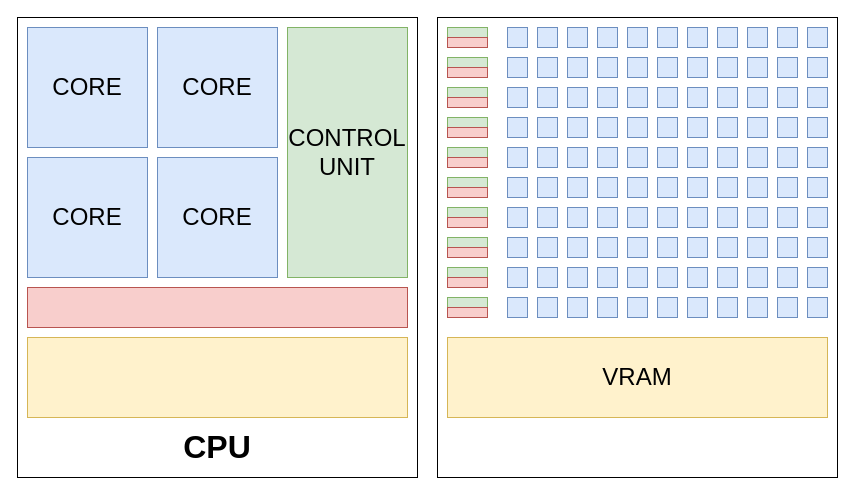
The diagram is 855 pixels wide and 495 high, and some of its shapes have lost their labels. Each missing label, with the box of its shape:
CACHES: (26, 286, 408, 328)
DRAM: (26, 336, 408, 418)
GPU: (436, 16, 838, 478)
